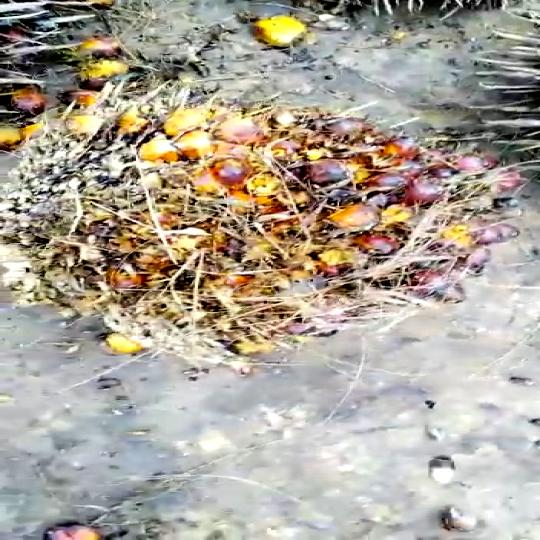masak: (0, 80, 499, 357)
